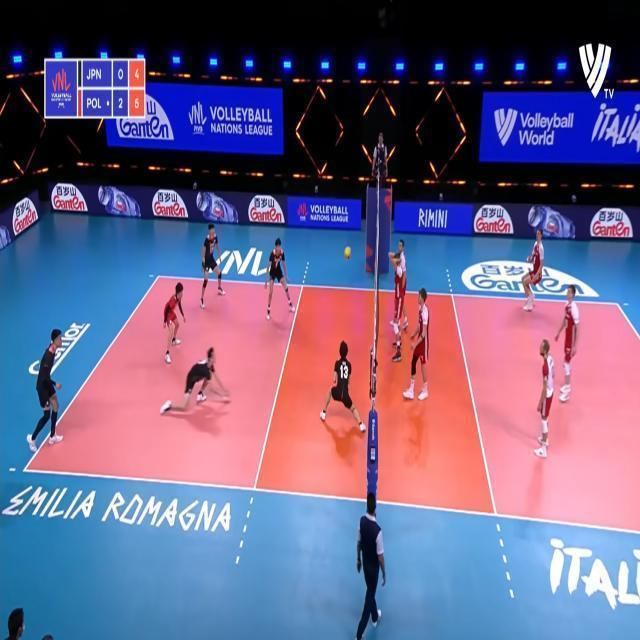volleyball: (343, 247, 352, 260)
